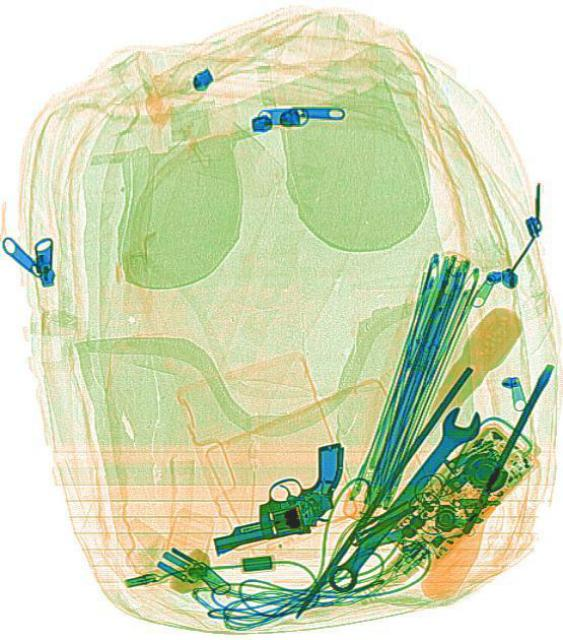Gun: (198, 441, 351, 549)
Wrench: (318, 395, 486, 597)
